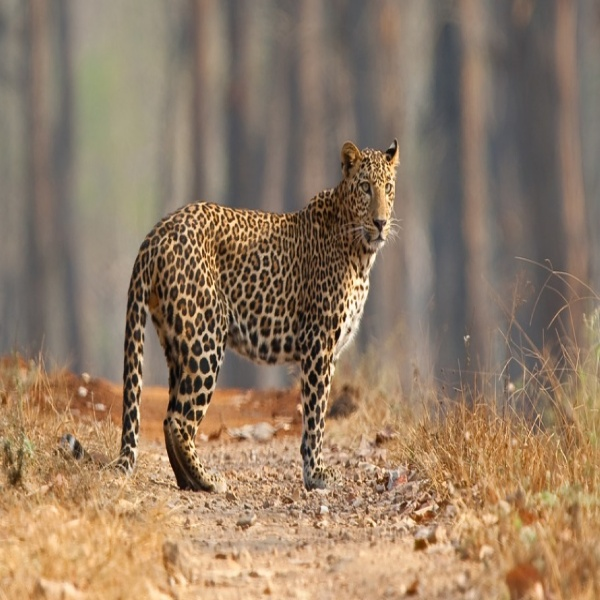Leopard: (62, 135, 404, 495)
